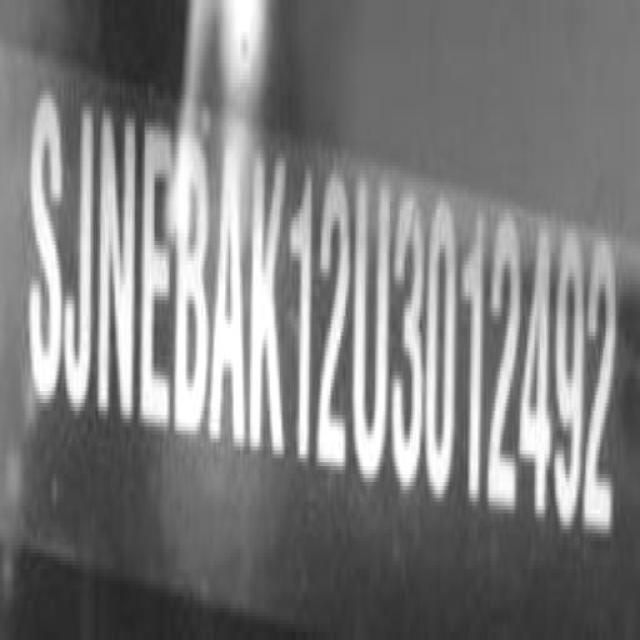0: (424, 192, 460, 510)
1: (284, 151, 316, 478), (460, 204, 488, 515)
2: (312, 161, 354, 486), (583, 235, 624, 544), (486, 216, 526, 528)
3: (390, 177, 430, 497)
4: (519, 213, 558, 531)
9: (552, 225, 588, 537)
A: (207, 137, 250, 457)
B: (173, 124, 214, 450)
E: (133, 114, 177, 444)
J: (62, 104, 95, 418)
K: (248, 141, 287, 464)
N: (93, 105, 143, 437)
S: (29, 89, 63, 408)
U: (352, 170, 391, 496)
